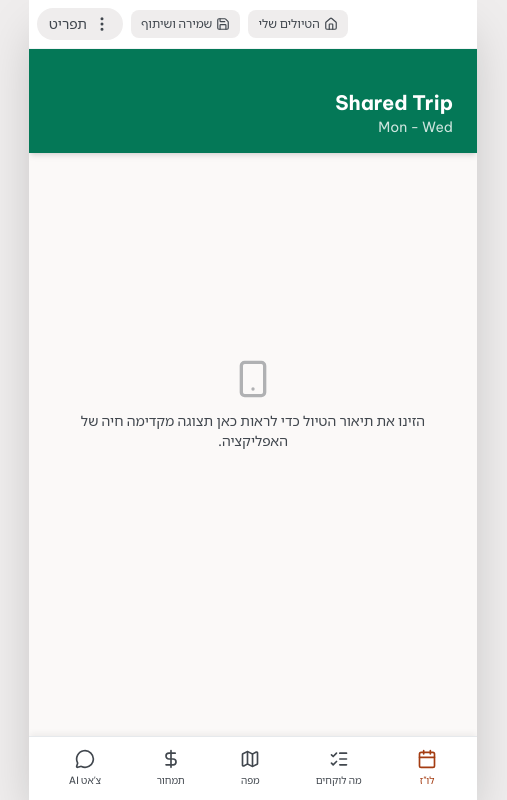
Test: App shared-trip viewer › lets an admin add another admin by email
Click the button "שמירה ושיתוף".
click(186, 24)  # box [131,10,240,38]
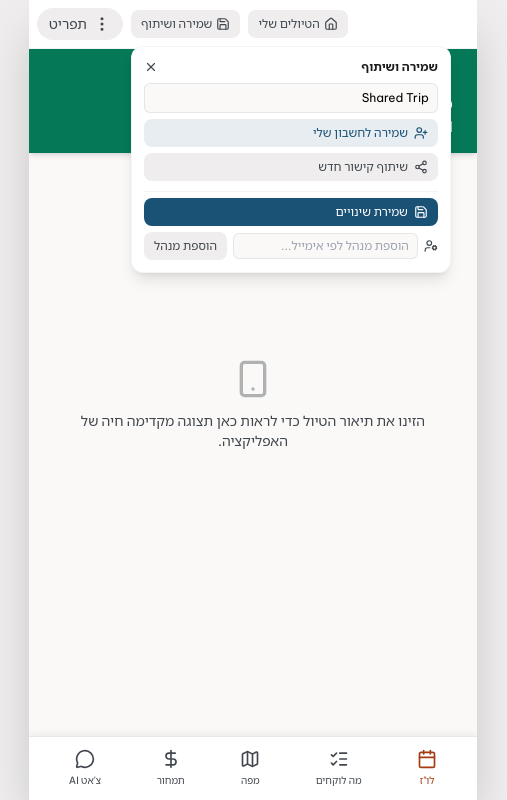
Type "Friend@Example.com" into the field with placeholder "הוספת מנהל לפי אימייל...".
click(325, 246); type("Friend@Example.com")  # box [233,233,418,259]
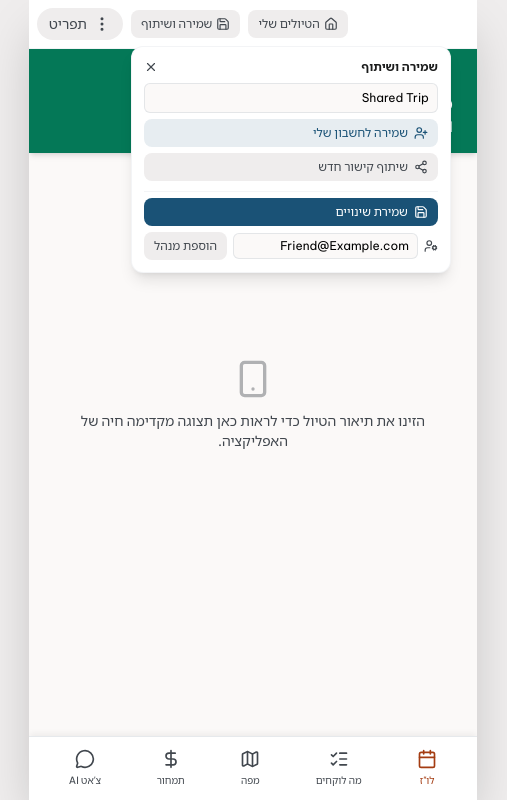
Click the button "הוספת מנהל".
click(185, 246)  # box [144,232,227,260]
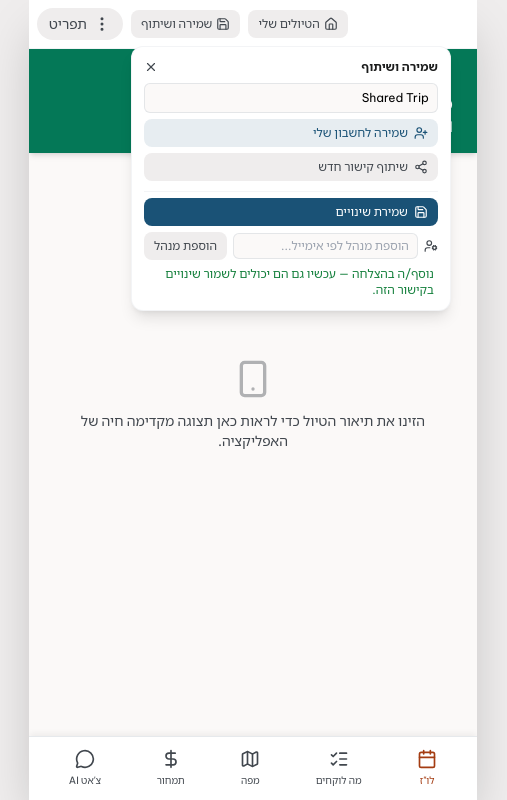
Check: the text "נוסף/ה בהצלחה — עכשיו גם הם יכולים לשמור שינויים בקישור הזה." is shown, box [144,266,438,298]
